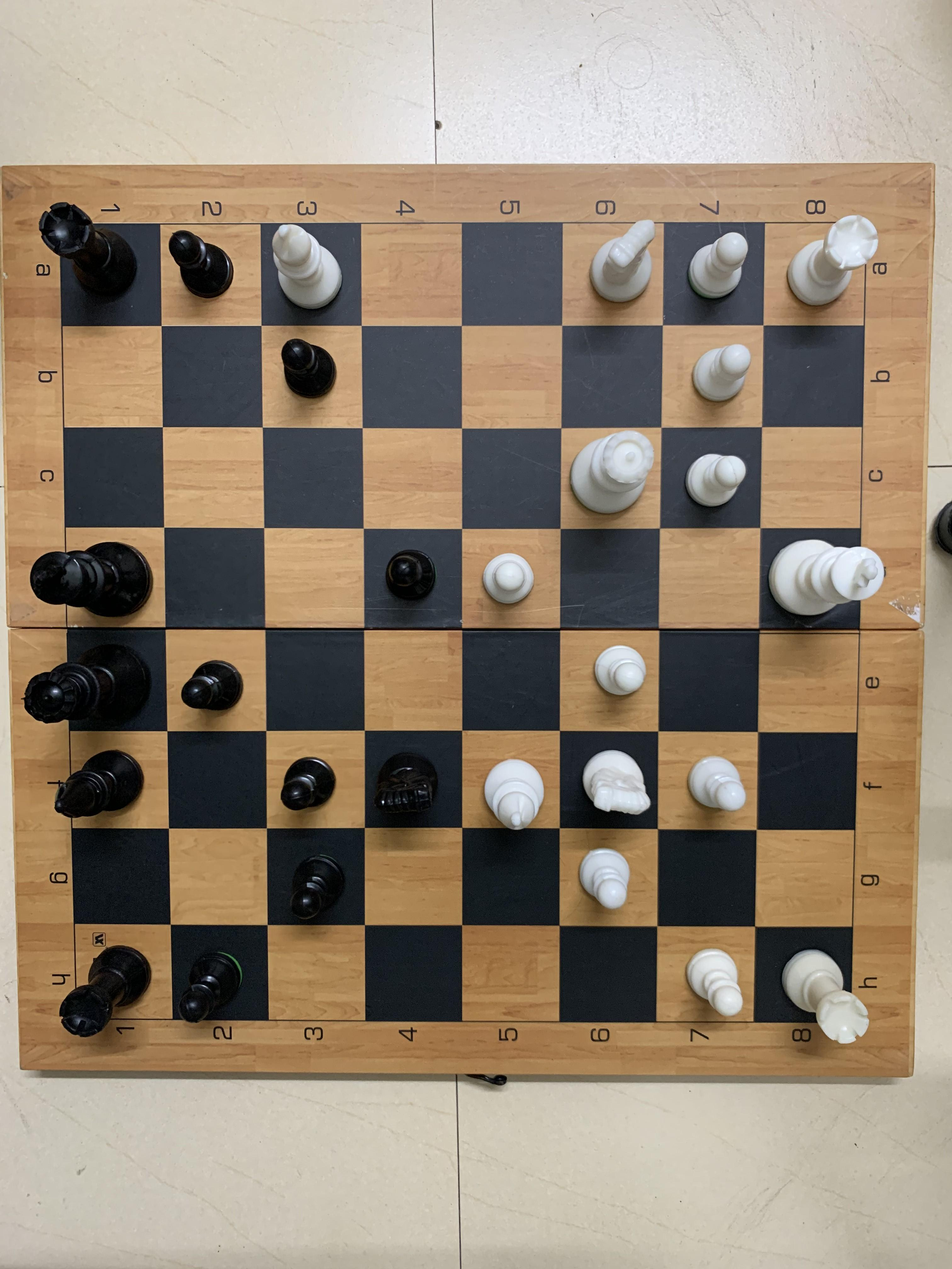black_bishop: (39, 732, 161, 834)
black_king: (10, 531, 167, 629)
black_pawn: (269, 831, 360, 931), (172, 632, 266, 725), (264, 733, 357, 824), (161, 224, 256, 309), (263, 333, 358, 412), (171, 943, 253, 1030), (369, 536, 453, 620)
black_queen: (8, 632, 157, 725)
black_rook: (33, 943, 172, 1048), (29, 197, 145, 307)
white_bishop: (775, 206, 896, 315), (261, 211, 357, 320), (467, 745, 557, 841)
white_king: (761, 528, 896, 628)
white_knight: (586, 220, 667, 307), (573, 742, 656, 823)
white_pawn: (660, 934, 759, 1027), (663, 437, 760, 523), (671, 230, 769, 310), (460, 535, 545, 621), (566, 838, 649, 926), (672, 334, 755, 417), (675, 739, 760, 820), (585, 647, 656, 720)
white_queen: (564, 425, 656, 532)
white_rook: (762, 932, 883, 1055)
